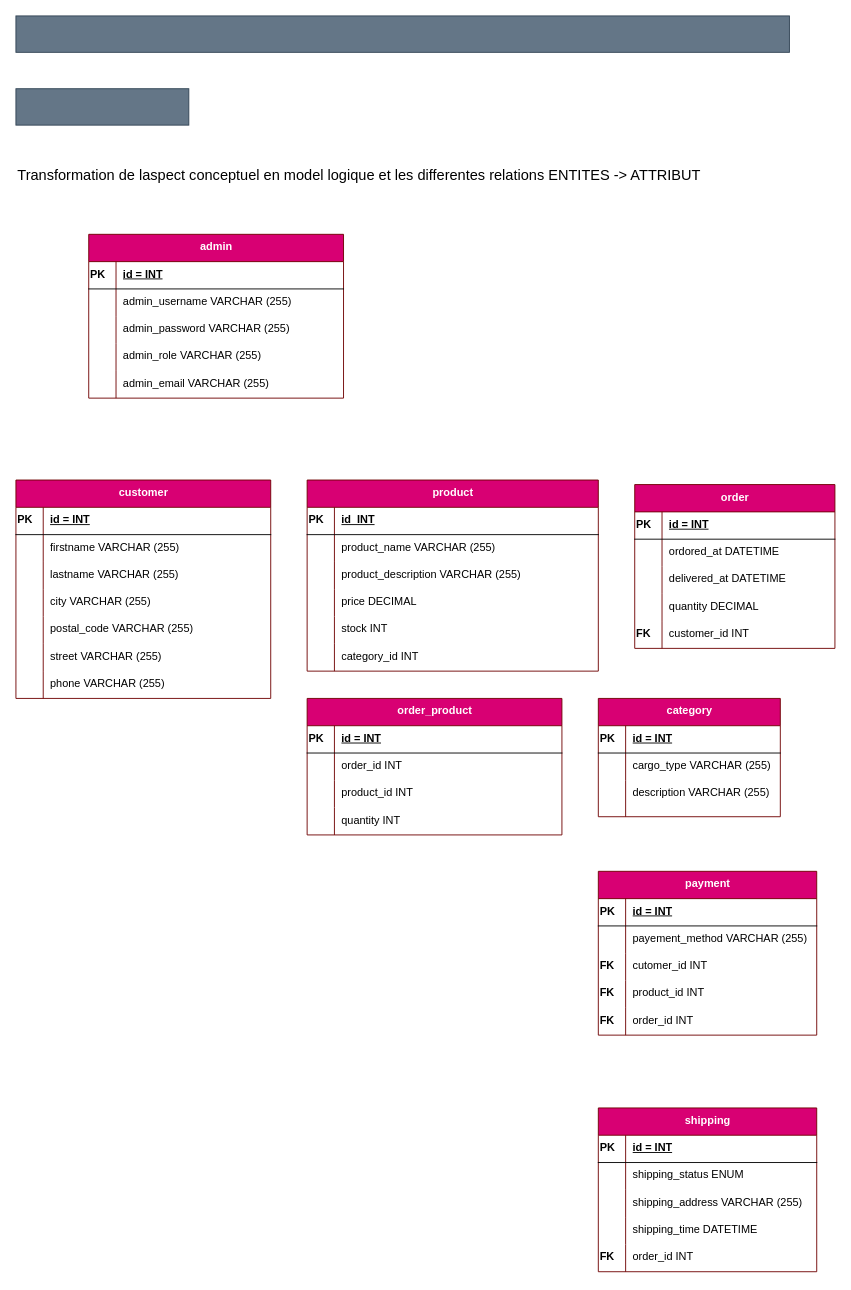
This 851x1290 diagram has some shape labels left out. Here are the shapes that lost their labels. From the top down, the centre of each, then its label:
At point (402, 33): "BASE DE DONNNEE ECOMMERCE".
At point (102, 106): "MLD - en MPD".
